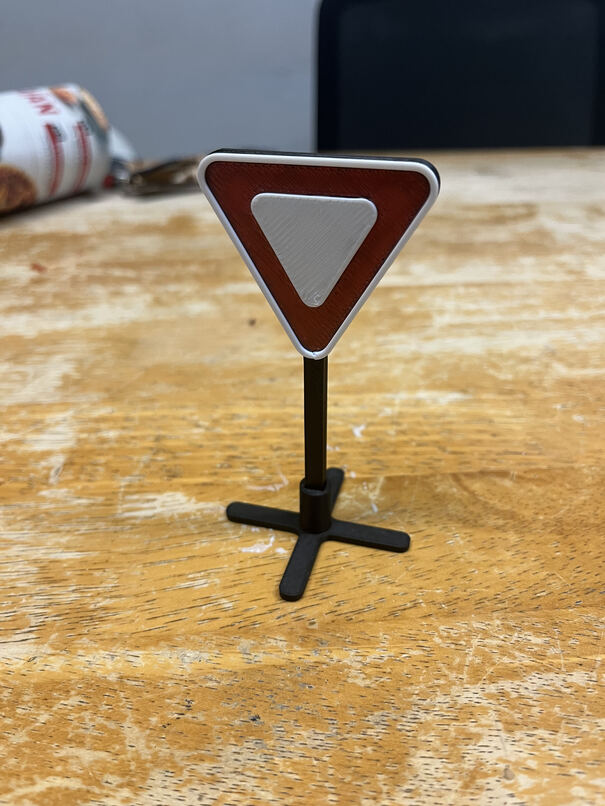sign_yield: (194, 146, 450, 357)
